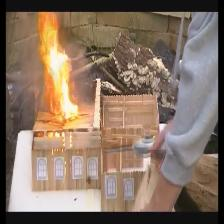fire: (38, 12, 77, 124)
